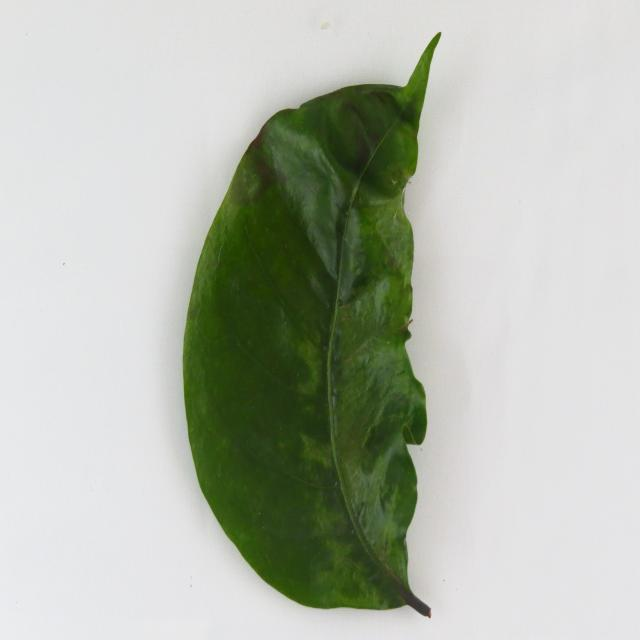DeficienciaNutricional-Calcio: (184, 33, 440, 617)
